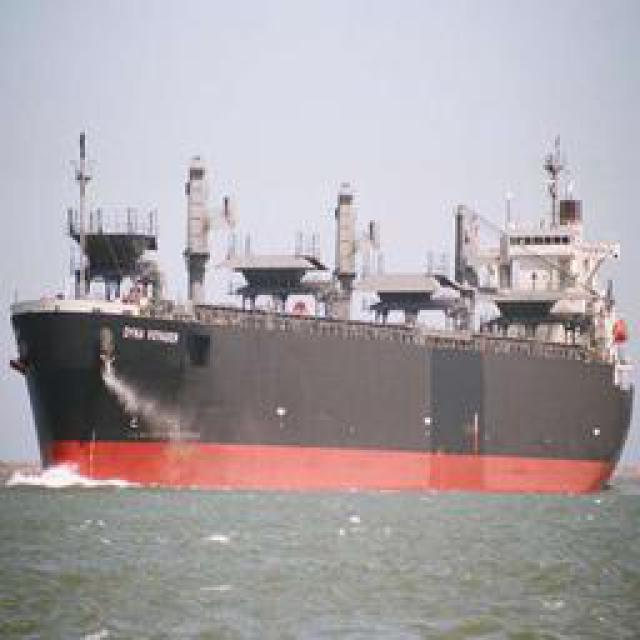Ship: (15, 121, 633, 511)
